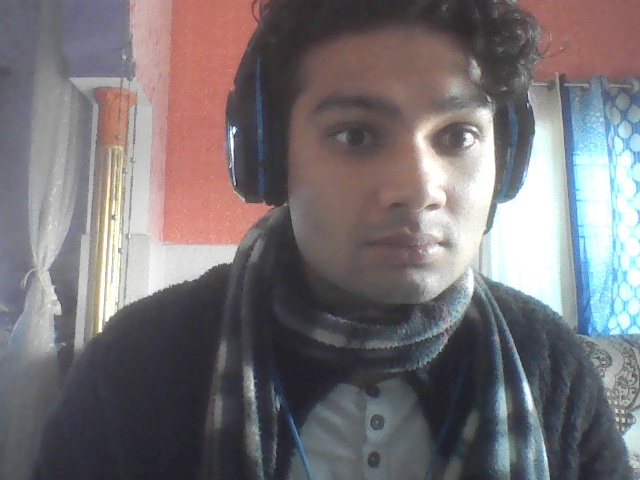real: (242, 0, 519, 392)
